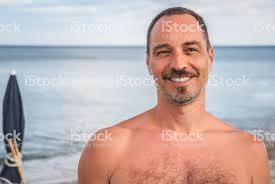white_male: (146, 35, 219, 96)
